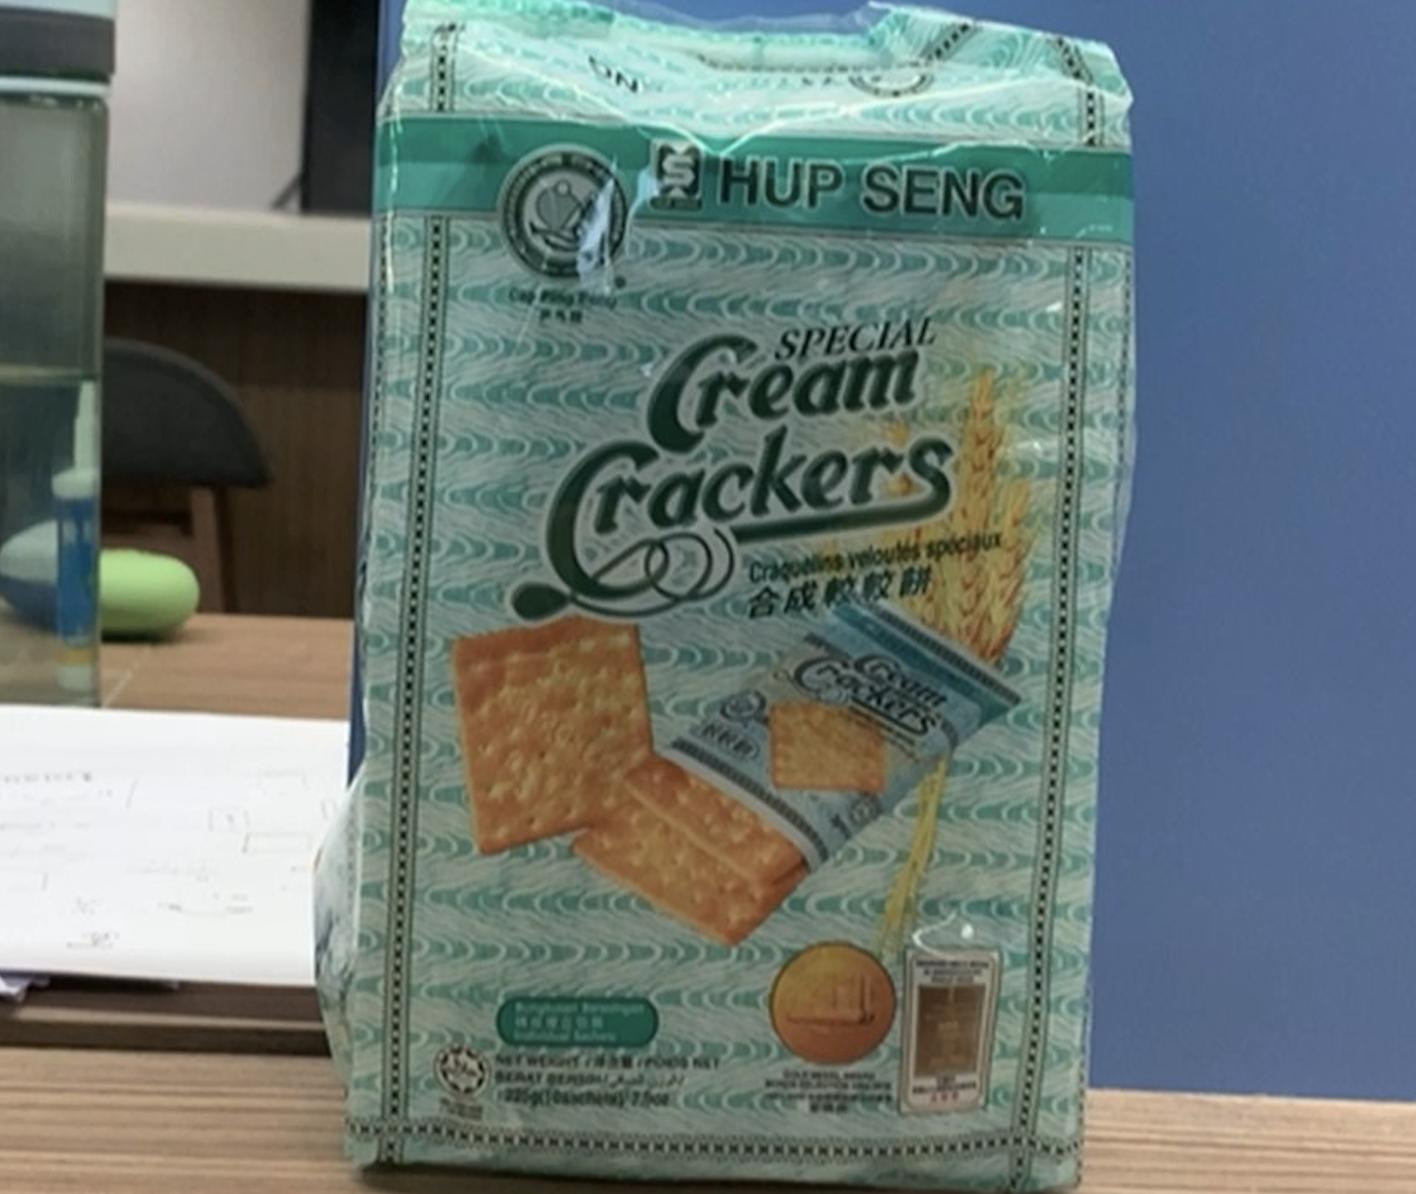halal: (440, 1045, 485, 1094)
